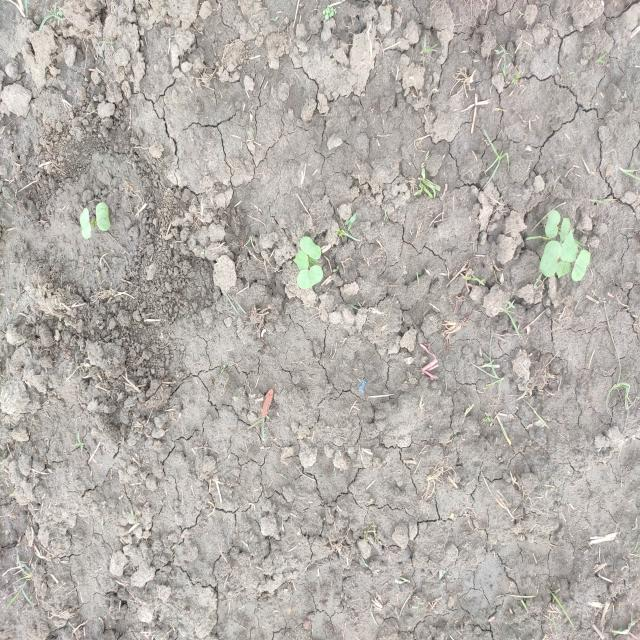seedling: (540, 240, 561, 277), (571, 249, 591, 282), (297, 265, 323, 289), (560, 230, 578, 262), (300, 236, 321, 260), (545, 210, 561, 238), (96, 202, 110, 231), (80, 207, 91, 239), (293, 251, 308, 271), (556, 261, 571, 279), (560, 218, 570, 241)
